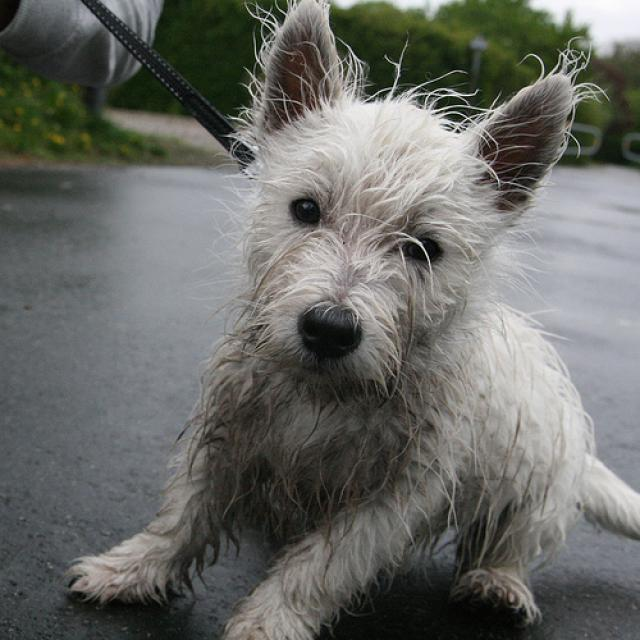dog-scottish_terrier: (54, 1, 637, 637)
